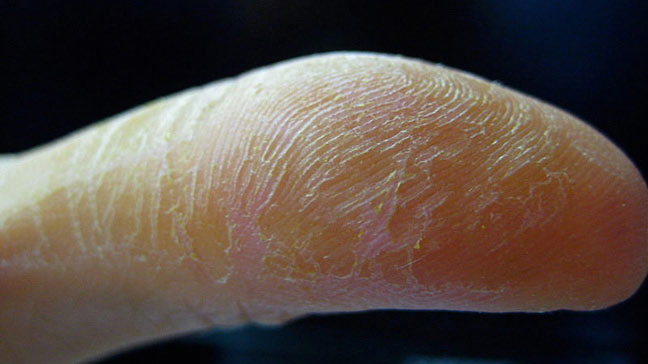Diseased: (40, 58, 555, 317)
